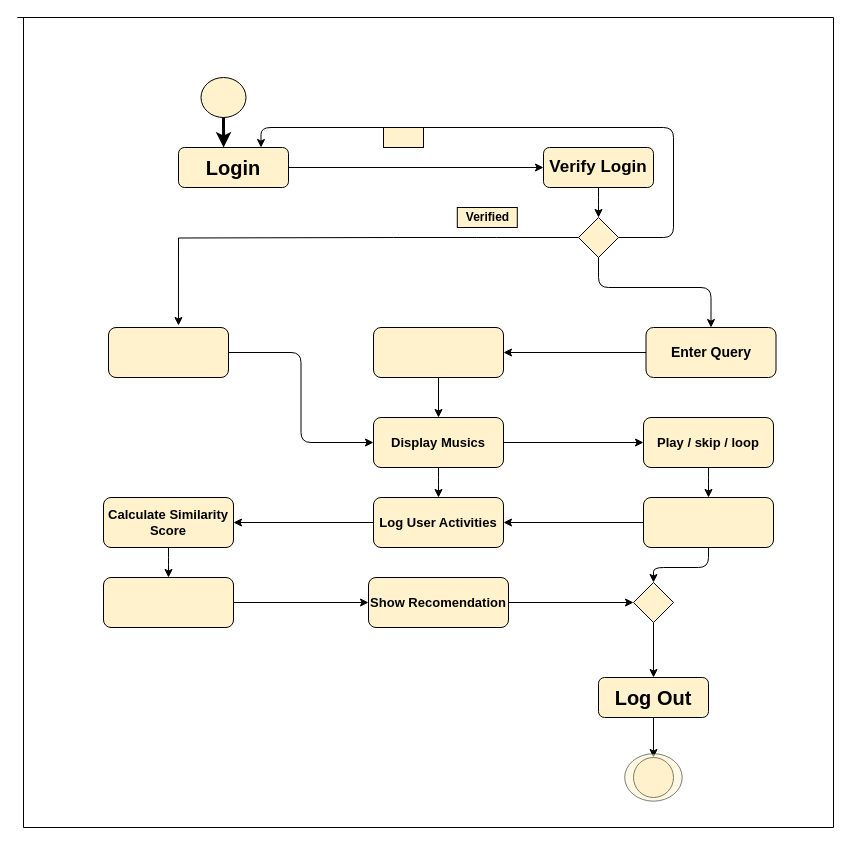
The diagram is 853 pixels wide and 846 high, and some of its shapes have lost their labels. Each missing label, with the box of its shape:
Generate Prediction: (102, 576, 234, 628)
if No: (382, 126, 424, 148)
Load User Profile: (108, 326, 228, 378)
Process Query: (372, 326, 504, 378)
Rate: (642, 496, 774, 548)
